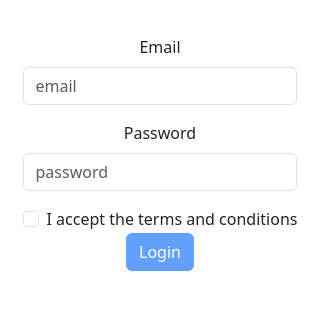
Login page › Unsuccessfull login scenario tests › it shows error messages when email and password are not valid
Type "hasanangis@r" into the field with test id "email-input" at (161, 86), box [23,67,298,105]
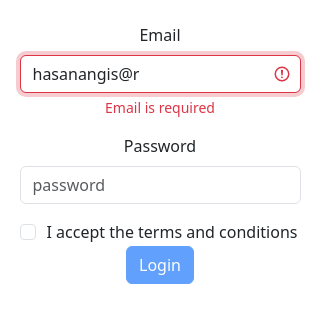
Type "5Kon" into the password field with test id "password-input" at (161, 185), box [20,166,301,204]
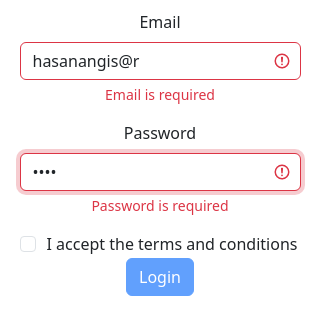
Expected: the text "Email is required" is shown, [105,85,215,104]
Expected: the number of elements with test id "error-message" is 2, [105,85,215,104]; [91,196,229,215]
Expected: the text "Password is required" is shown, [91,196,229,215]
